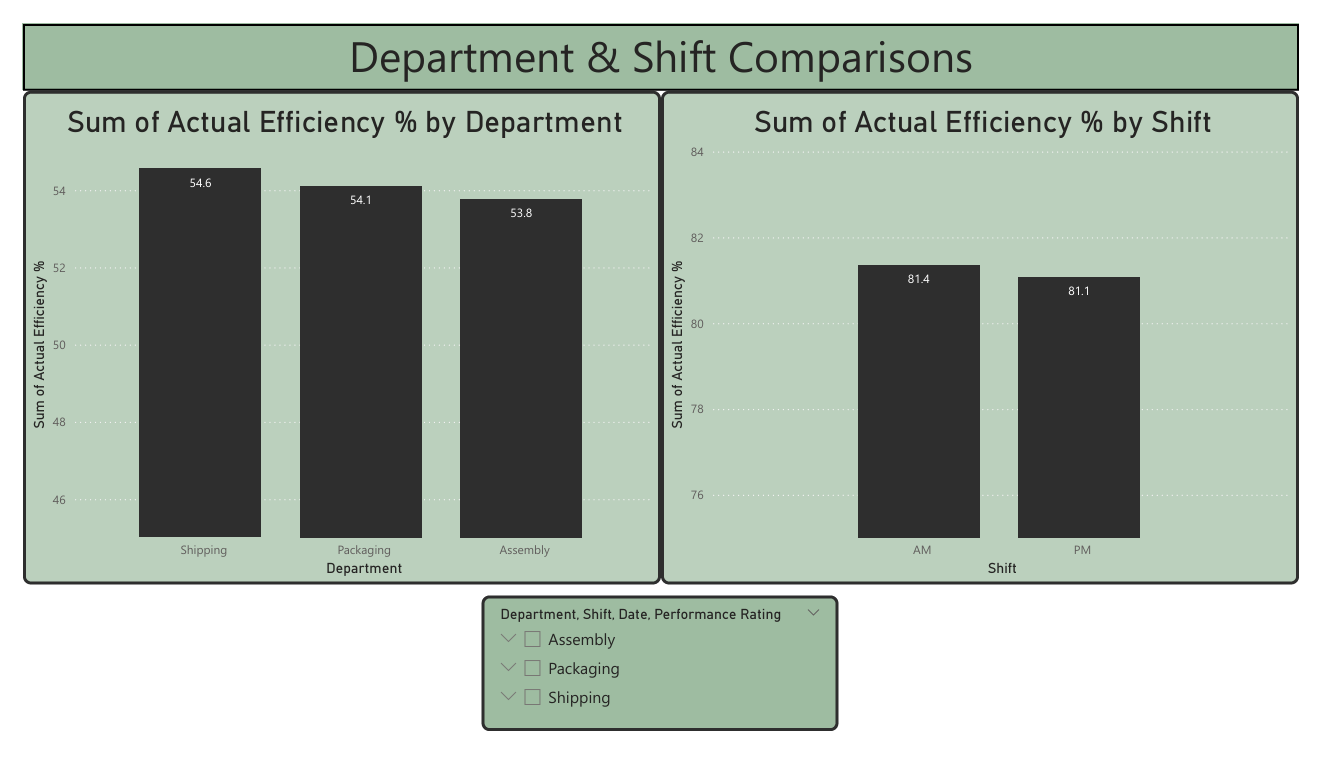

The page's visual inventory and layout, read from the dashboard file:
{"tool":"powerbi","page":{"name":"Department & Shift Comparisons","canvas":[1280,720],"ordinal":2},"visuals":[{"type":"clusteredColumnChart","fields":{"Category":["Sheet1.Department"],"Y":["Sum(Sheet1.Actual Efficiency %)"]},"box":[0,67.5,640,494.2],"z":0},{"type":"clusteredColumnChart","fields":{"Y":["Sum(Sheet1.Actual Efficiency %)"],"Category":["Sheet1.Shift"]},"box":[640,67.5,640,494.2],"z":1000},{"type":"slicer","fields":{"Values":["Sheet1.Department","Sheet1.Shift","Sheet1.Date","Sheet1.Performance Rating"]},"box":[460.4,572.5,358,136.2],"z":2000},{"type":"textbox","box":[0,0,1280,67.5],"z":3000}]}

Visuals, with their boxes on the page's 1280x720 design canvas (x1, y1, x2, y2). These are canvas units, not pixel positions in the 1317x762 screenshot, which may show the page scaled, cropped or inside an application window:
clusteredColumnChart - Sheet1.Department x Sum(Sheet1.Actual Efficiency %): box(0, 68, 640, 562)
clusteredColumnChart - Sum(Sheet1.Actual Efficiency %) x Sheet1.Shift: box(640, 68, 1280, 562)
slicer - Sheet1.Department x Sheet1.Shift: box(460, 572, 818, 709)
textbox: box(0, 0, 1280, 68)
